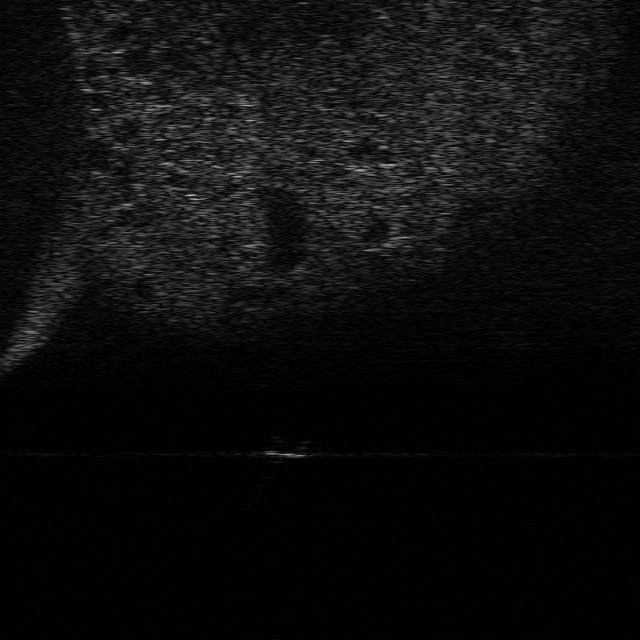cube: (266, 435, 312, 459)
